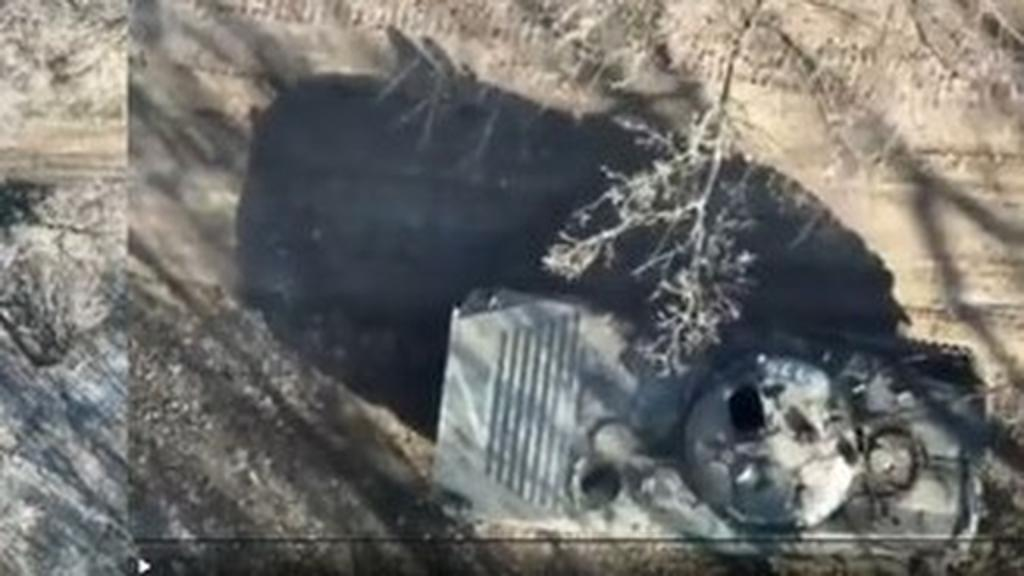APC-IFV: (414, 262, 994, 566)
